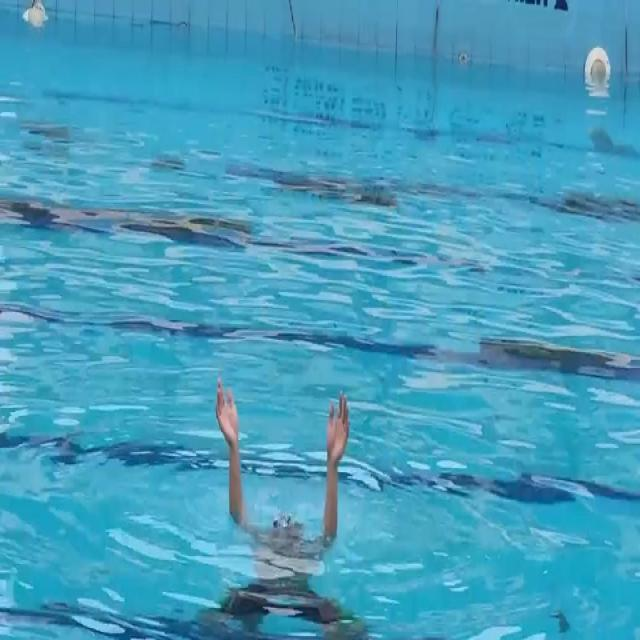Drowning: (210, 361, 351, 549)
